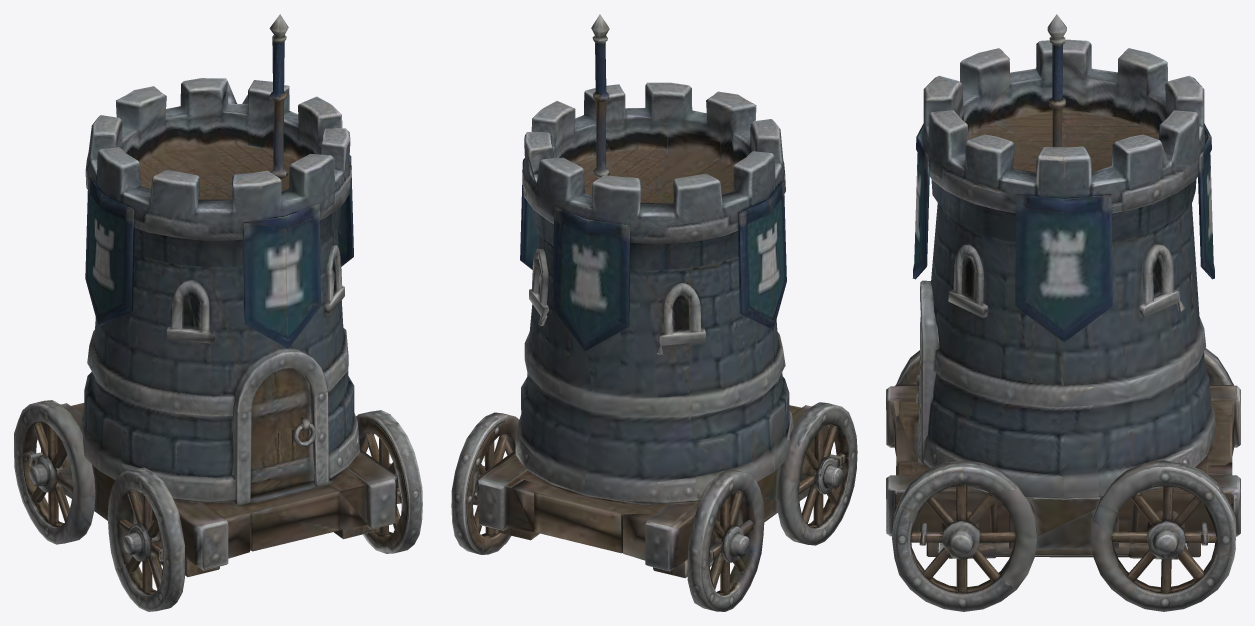
Rendered from tower_dark.glb.
3 views of the same model, side by side, from view 1: azimuth 30°, elevation 25°; view 2: azimuth 150°, elevation 25°; view 3: azimuth 270°, elevation 25° (orthographic). The views are drawn at different scales.
Visible parts, largest first — view 1: body, wheel_R1, wheel_R0, wheel_L0; view 2: body, wheel_R1, wheel_R0, wheel_L1; view 3: body, wheel_L1, wheel_L0.
Part boxes in pixels (box(x1,y1,x2,y2)): body: box(22, 14, 422, 577); wheel_R1: box(14, 411, 95, 544); wheel_R0: box(107, 489, 187, 611); wheel_L0: box(360, 432, 422, 553); body: box(460, 14, 853, 578); wheel_R1: box(687, 490, 764, 611); wheel_R0: box(776, 424, 857, 545); wheel_L1: box(451, 434, 515, 554); body: box(886, 14, 1240, 557); wheel_L1: box(1091, 483, 1235, 611); wheel_L0: box(892, 486, 1036, 611).
Bounding box in the file's own units: 0.5298 × 0.9531 × 0.5449.
Materials: 1 (1 with a texture image).
